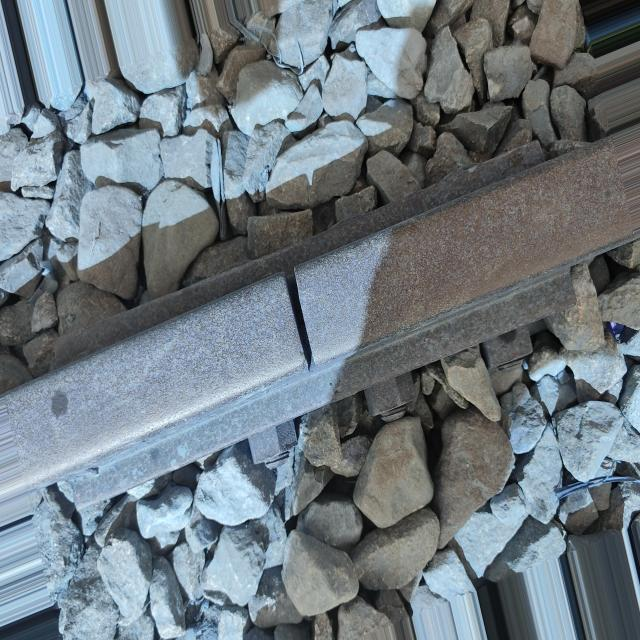crack: (272, 254, 319, 386)
